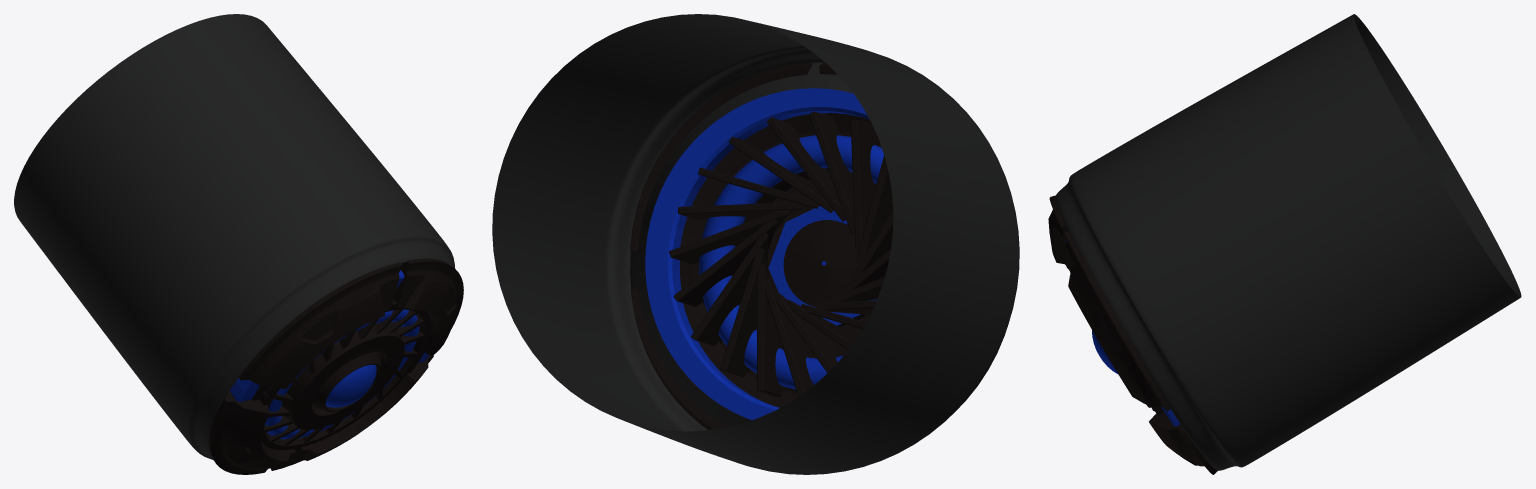
Rendered from _D_light_chest_001.obj.
3 views of the same model, side by side, from view 1: azimuth 30°, elevation 25°; view 2: azimuth 150°, elevation 25°; view 3: azimuth 270°, elevation 25° (orthographic). The views are drawn at different scales.
Visible parts, largest first — view 1: DTL_I8.002, Cylinder.004, C, Plane.026, Plane.030, Sphere.002, Plane.029; view 2: DTL_I8.002, Plane.026, Plane.029, Cylinder.004, C, Plane.030, Plane.028; view 3: DTL_I8.002, Cylinder.004.
Part boxes in pixels (bbox=[...]): DTL_I8.002: bbox=[14, 14, 455, 460]; Cylinder.004: bbox=[209, 258, 463, 474]; C: bbox=[252, 290, 430, 450]; Plane.026: bbox=[263, 309, 424, 445]; Plane.030: bbox=[264, 309, 419, 439]; Sphere.002: bbox=[325, 364, 376, 407]; Plane.029: bbox=[230, 270, 428, 401]; DTL_I8.002: bbox=[492, 14, 1019, 474]; Plane.026: bbox=[669, 111, 893, 396]; Plane.029: bbox=[645, 88, 869, 419]; Cylinder.004: bbox=[630, 62, 1005, 430]; C: bbox=[679, 113, 881, 395]; Plane.030: bbox=[699, 135, 883, 389]; Plane.028: bbox=[768, 206, 876, 325]; DTL_I8.002: bbox=[1055, 14, 1521, 470]; Cylinder.004: bbox=[1048, 195, 1217, 474].
Size of the model in its own units: 0.0372 by 0.0444 by 0.046.
